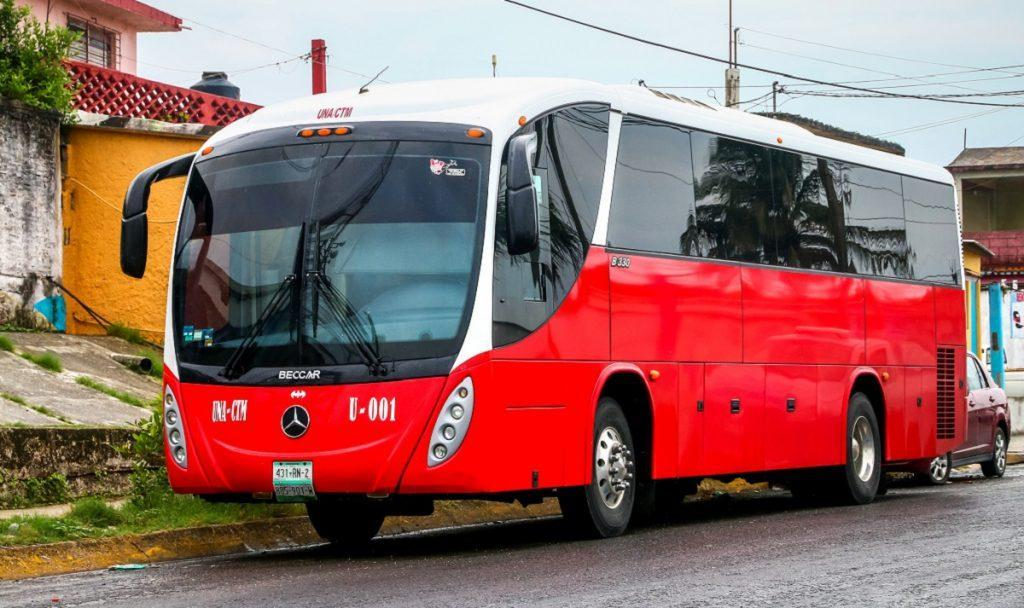Bus: (128, 77, 1009, 554)
